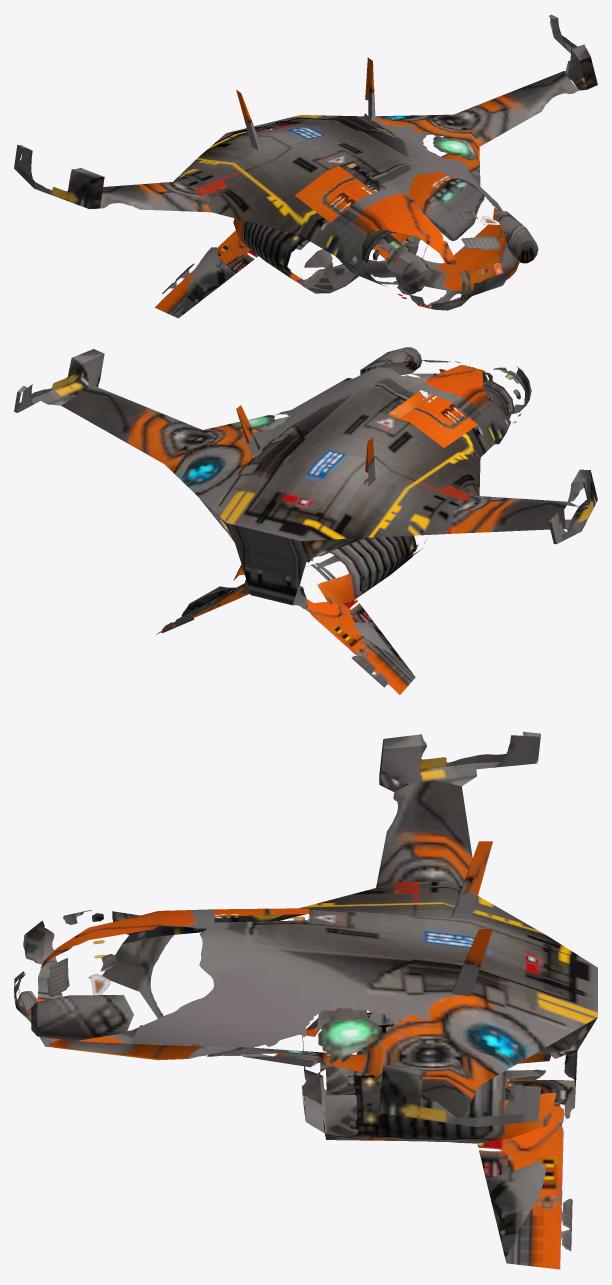
File: LOD0-UVFlip.obj
The picture shows the model from 3 angles, top to bottom: view 1: azimuth 30°, elevation 25°; view 2: azimuth 150°, elevation 25°; view 3: azimuth 270°, elevation 25°; orthographic projection. The views are drawn at different scales.
Visible parts, largest first — view 1: H_Scout_Skin, H_Scout_Badge; view 2: H_Scout_Skin, H_Scout_Badge; view 3: H_Scout_Skin, H_Scout_Badge.
Part boxes in pixels (<box>): H_Scout_Skin: <box>14,14,597,318</box>; H_Scout_Badge: <box>295,161,377,222</box>; H_Scout_Skin: <box>14,347,597,694</box>; H_Scout_Badge: <box>387,393,477,447</box>; H_Scout_Skin: <box>14,731,597,1269</box>; H_Scout_Badge: <box>214,908,309,920</box>.
Bounding box in the file's own units: 15.98 × 6.22 × 10.83.
